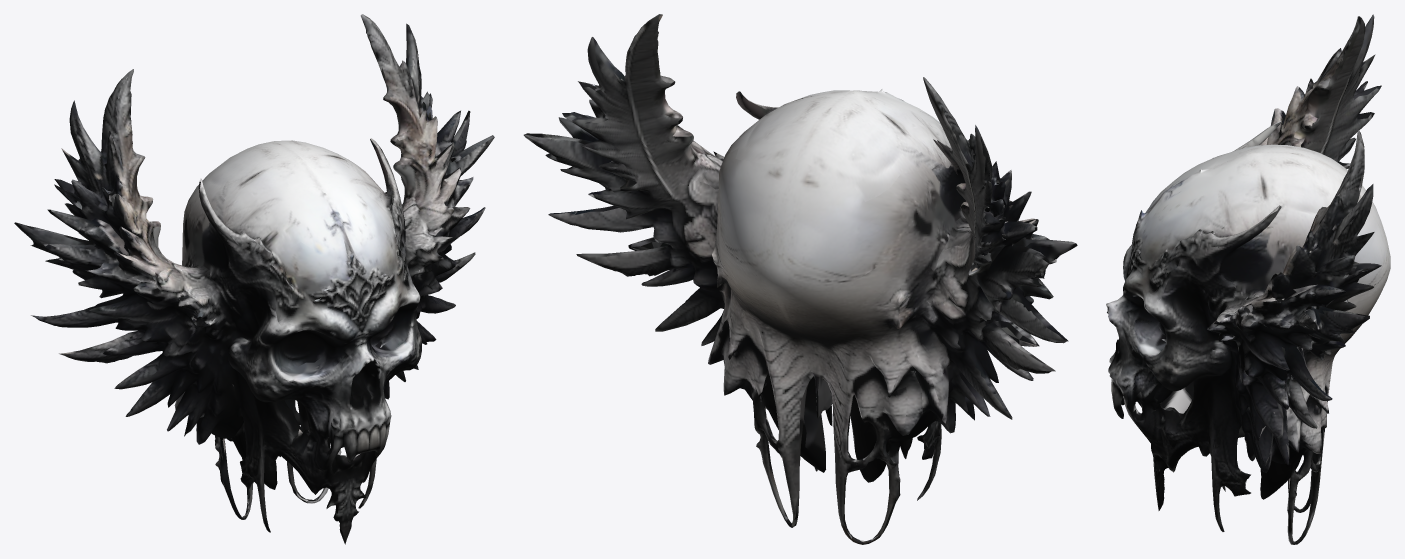
The picture shows the model from 3 angles, left to right: view 1: azimuth 30°, elevation 25°; view 2: azimuth 150°, elevation 25°; view 3: azimuth 270°, elevation 25°; orthographic projection. The views are drawn at different scales.
Parts seen in each view (by area): view 1: Skull; view 2: Skull; view 3: Skull.
Part boxes in pixels (x1,y1,x2,y2): Skull: (14,14,494,544); Skull: (523,14,1077,544); Skull: (1106,14,1390,544).
Bounding box in the file's own units: 0.32 × 0.3 × 0.1698.
1 material, 1 textured.
